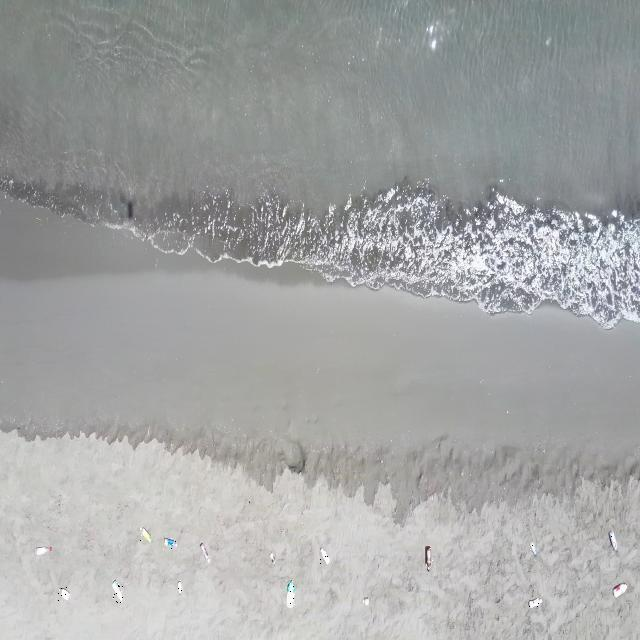Garbage: (112, 580, 123, 603), (287, 580, 295, 607), (608, 529, 616, 551), (612, 584, 627, 595), (424, 546, 431, 569), (200, 542, 208, 562), (528, 596, 542, 607), (320, 547, 329, 564), (140, 527, 150, 542), (35, 546, 51, 555), (57, 587, 68, 600), (164, 536, 176, 546), (268, 552, 275, 563), (529, 543, 535, 555), (176, 580, 181, 592), (363, 595, 368, 606)
